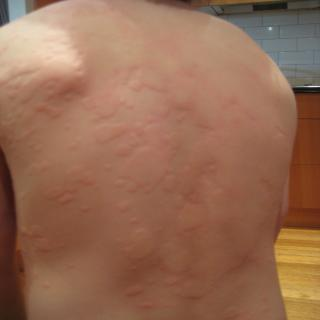urticaria: (12, 56, 56, 116), (97, 121, 147, 156), (124, 225, 167, 259), (122, 279, 155, 310), (119, 71, 164, 91), (50, 182, 79, 212), (170, 94, 197, 115), (24, 159, 48, 174)
